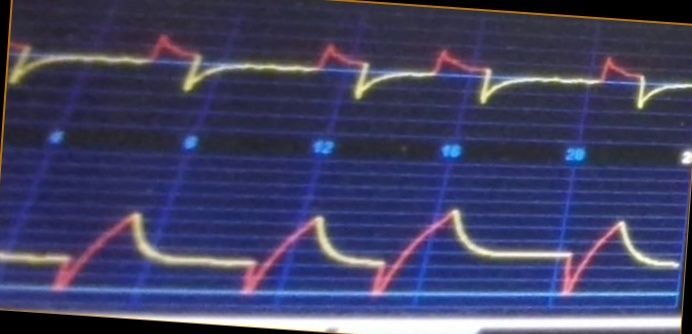Flow: (10, 30, 689, 123)
Leakage Volume: (1, 195, 678, 308)
